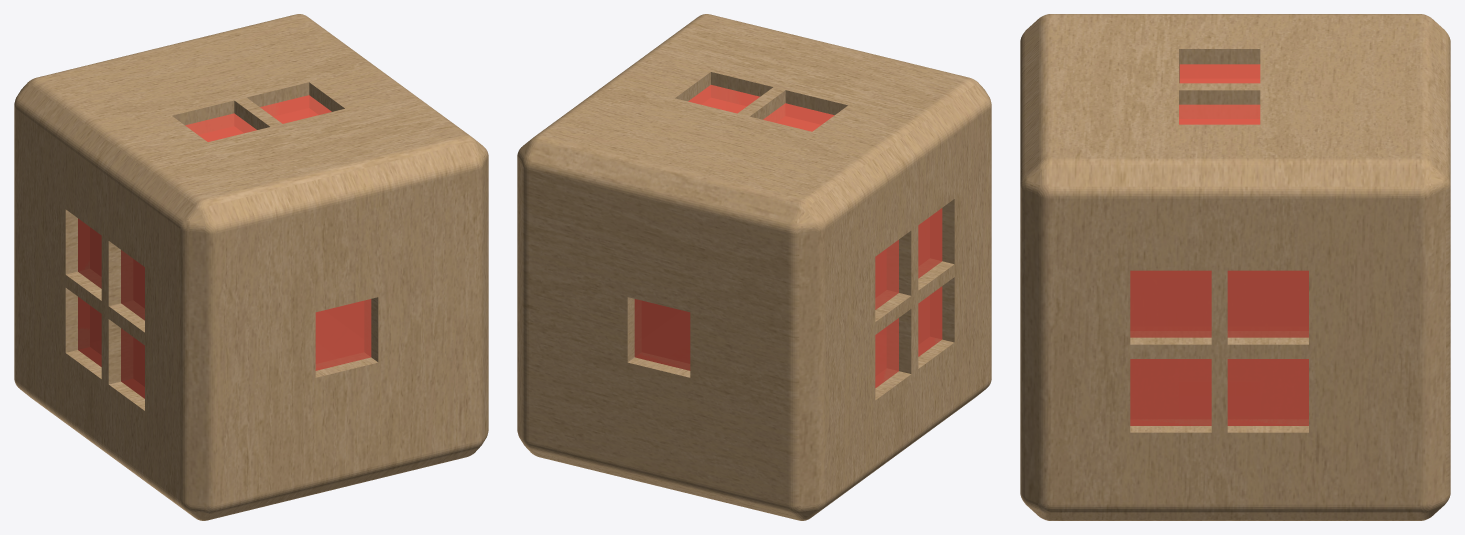
File: Targets_W_Cube.glb
3 views of the same model, side by side, from view 1: azimuth 30°, elevation 25°; view 2: azimuth 150°, elevation 25°; view 3: azimuth 270°, elevation 25° (orthographic). The views are drawn at different scales.
Visible parts, largest first — view 1: Cube, Targets, Targets.010, Targets.011, Targets.012, Targets.009, Targets.001, Targets.002; view 2: Cube, Targets.013, Targets.011, Targets.012, Targets.010, Targets.009, Targets.002, Targets.001; view 3: Cube, Targets.008, Targets.007, Targets.005, Targets.006, Targets.002, Targets.001.
Boxes of the visible parts, <box> form: Cube: <box>14,14,488,520</box>; Targets: <box>315,299,371,370</box>; Targets.010: <box>78,218,101,288</box>; Targets.011: <box>121,250,144,320</box>; Targets.012: <box>121,328,144,398</box>; Targets.009: <box>78,297,101,366</box>; Targets.001: <box>185,113,256,141</box>; Targets.002: <box>260,95,331,123</box>; Cube: <box>517,14,991,520</box>; Targets.013: <box>634,299,690,370</box>; Targets.011: <box>918,208,942,278</box>; Targets.012: <box>918,286,942,356</box>; Targets.010: <box>875,240,898,309</box>; Targets.009: <box>875,318,898,388</box>; Targets.002: <box>688,85,759,113</box>; Targets.001: <box>763,103,834,131</box>; Cube: <box>1020,14,1450,520</box>; Targets.008: <box>1130,270,1211,337</box>; Targets.007: <box>1227,270,1308,337</box>; Targets.005: <box>1130,359,1211,425</box>; Targets.006: <box>1227,359,1308,425</box>; Targets.002: <box>1179,104,1260,124</box>; Targets.001: <box>1179,64,1260,83</box>.
Bounding box in the file's own units: 50 × 50 × 54.
2 materials, 1 textured.
